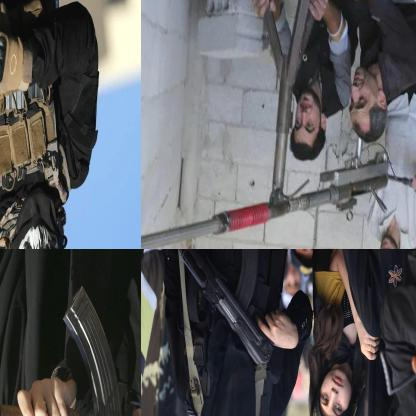rifle: (0, 287, 140, 415), (141, 249, 274, 368)
